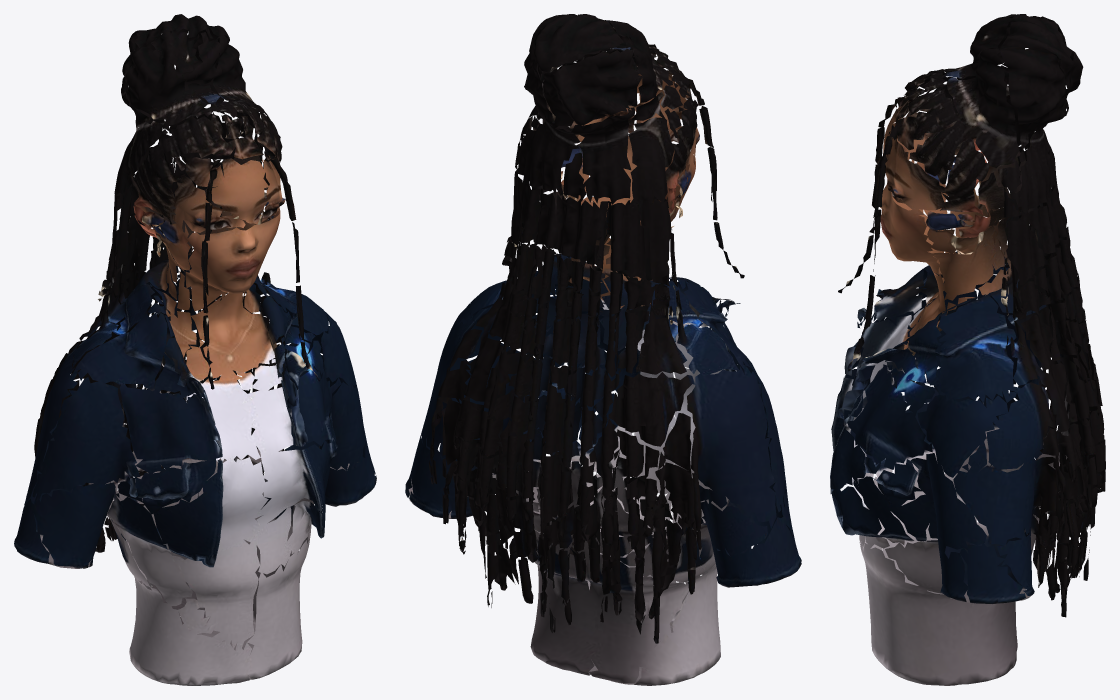
The model's file is navi_bust_lite.glb.
3 renders of one model, left to right at view 1: azimuth 30°, elevation 25°; view 2: azimuth 150°, elevation 25°; view 3: azimuth 270°, elevation 25°, orthographic. The views are drawn at different scales.
Visible parts, largest first — view 1: Navi_Bust_Static_NoFacialRig; view 2: Navi_Bust_Static_NoFacialRig; view 3: Navi_Bust_Static_NoFacialRig.
Boxes of the visible parts, bbox=[...] form: Navi_Bust_Static_NoFacialRig: bbox=[14, 14, 376, 685]; Navi_Bust_Static_NoFacialRig: bbox=[405, 14, 801, 685]; Navi_Bust_Static_NoFacialRig: bbox=[830, 14, 1105, 685].
Size of the model in its own units: 1.15 by 1.9 by 0.754.
1 material, 1 textured.
